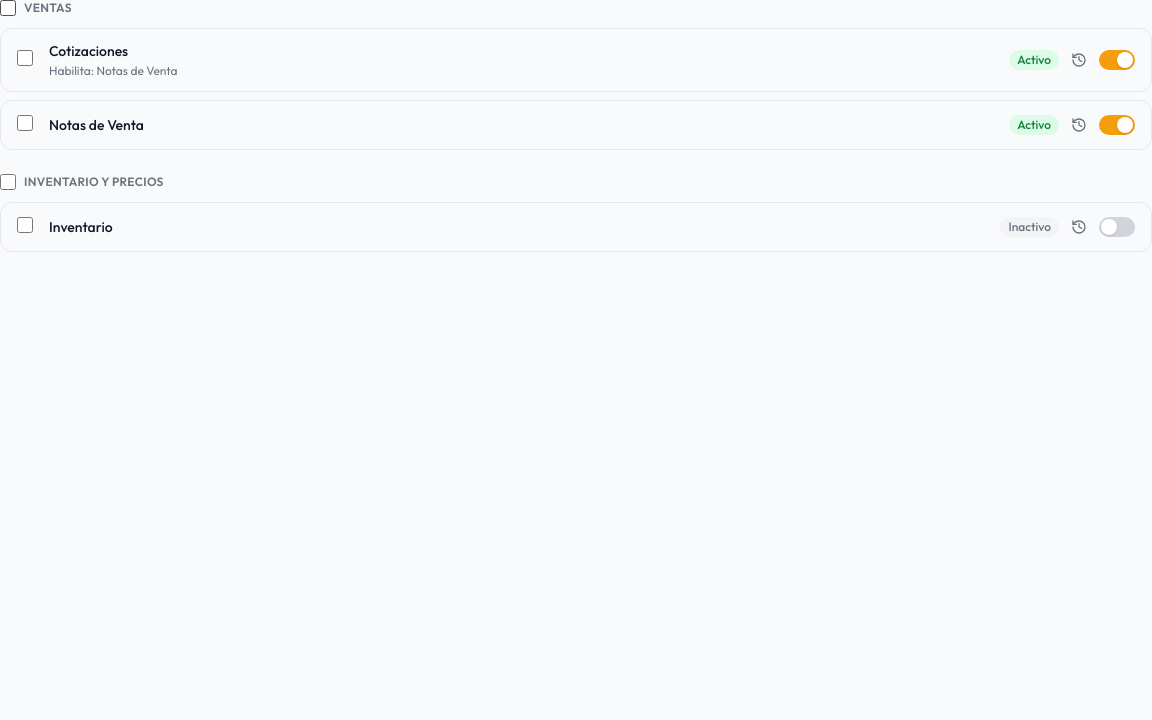
Scenario: ModulesTab › canceling cascade modal does not send PATCH
The width and height of the screenshot is (1152, 720).
Expected: the text "Cotizaciones" is shown, [49,42,128,60]
Click the switch named "Cotizaciones" at (1117, 60), box [1099,50,1135,70]
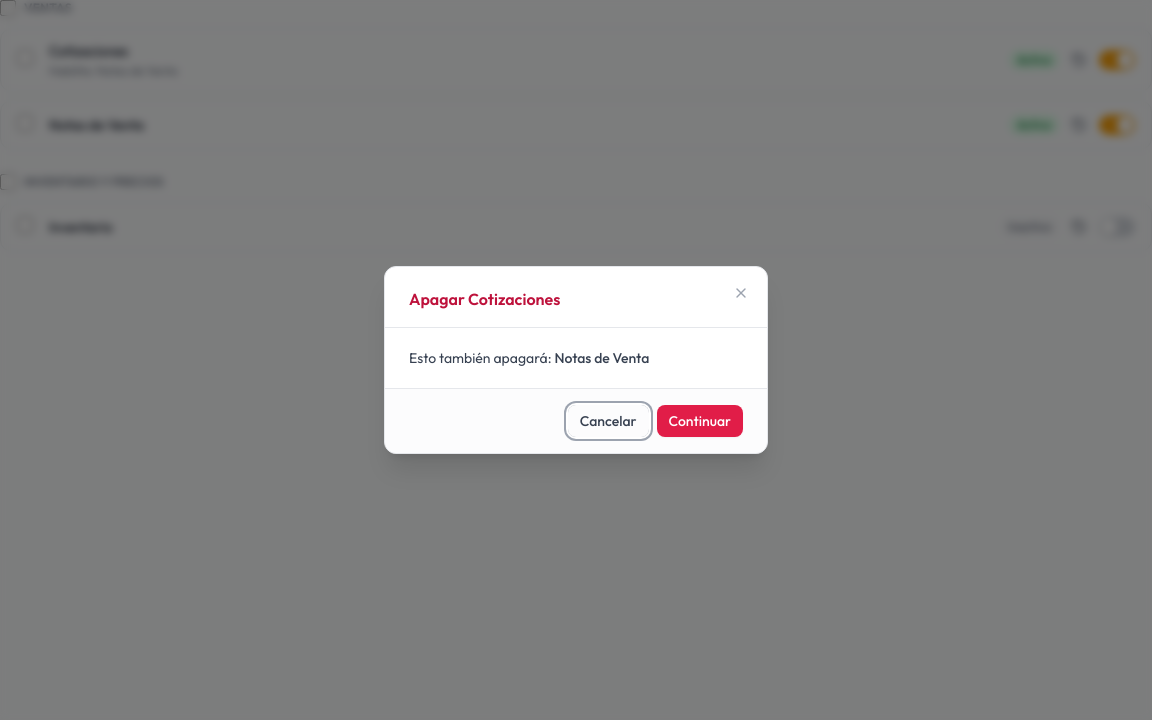
Result: the button "Cancelar" is shown
Click the button "Cancelar" at (608, 421), box [568,405,649,437]
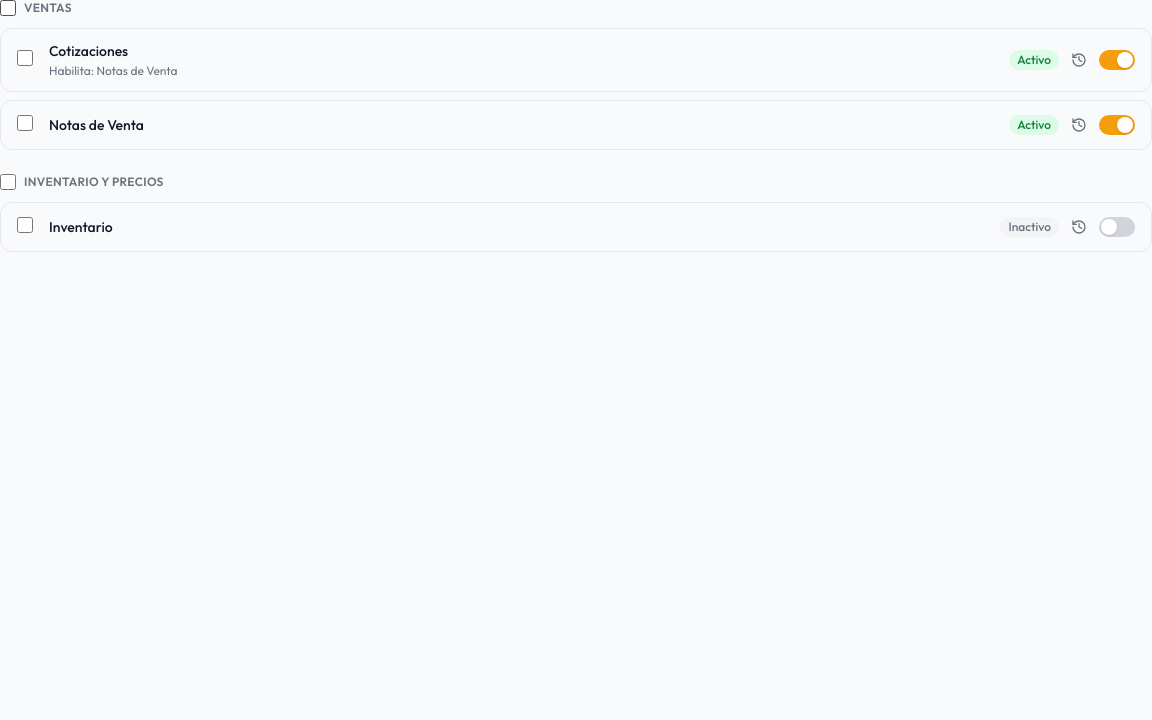
Result: the button "Continuar" is gone
